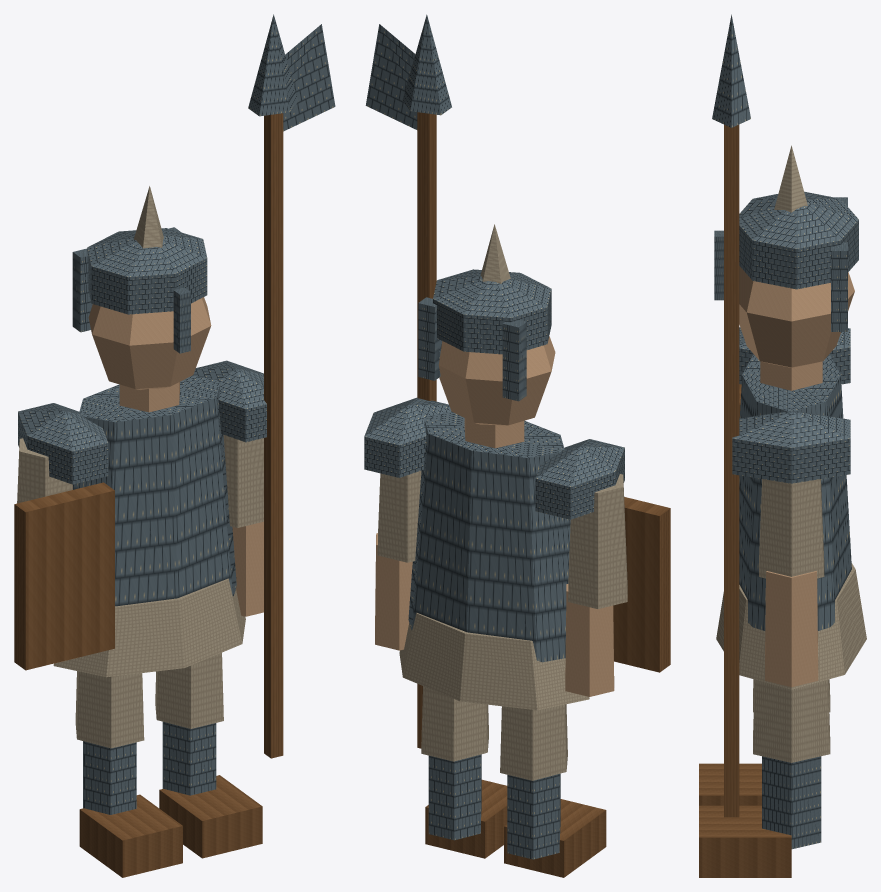
The model's file is unit-HALBERD-lod1.glb.
3 renders of one model, left to right at view 1: azimuth 30°, elevation 25°; view 2: azimuth 150°, elevation 25°; view 3: azimuth 270°, elevation 25°, orthographic. The views are drawn at different scales.
Size of the model in its own units: 0.225 by 0.565 by 0.098.
Materials: 1 (1 with a texture image).
